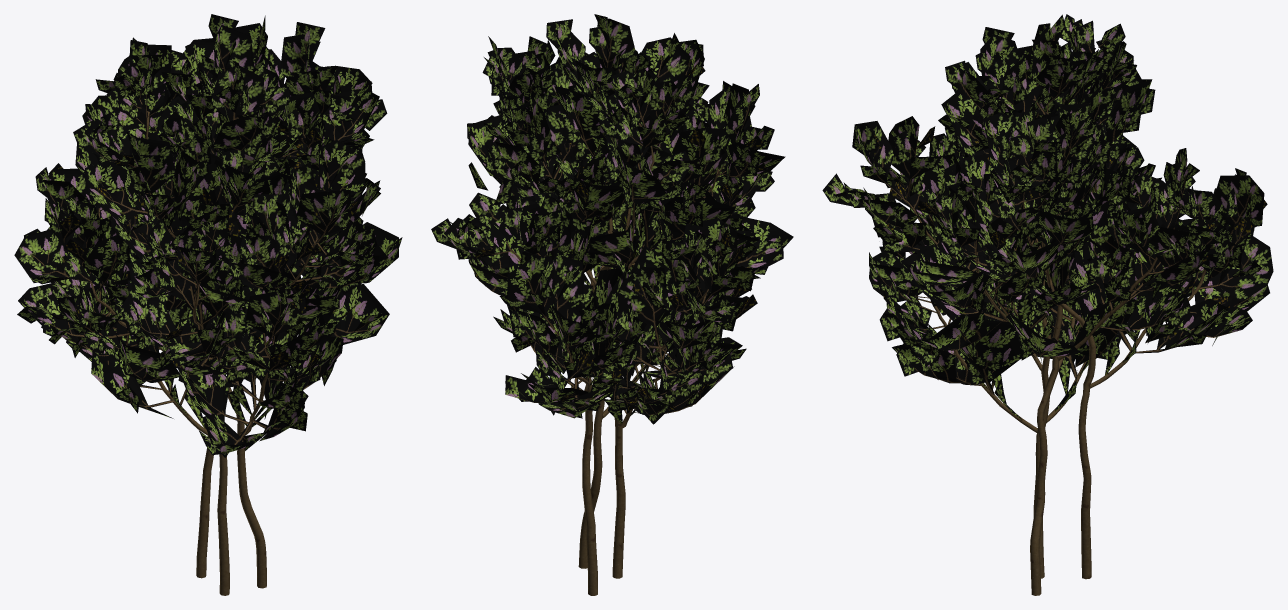
Rendered from lilac_tree_1k.gltf.
3 renders of one model, left to right at view 1: azimuth 30°, elevation 25°; view 2: azimuth 150°, elevation 25°; view 3: azimuth 270°, elevation 25°, orthographic.
Visible parts, largest first — view 1: Lilac_single_tree_2__LOD0, Lilac_single_tree_1__LOD0, Lilac_single_tree_3__LOD0; view 2: Lilac_single_tree_2__LOD0, Lilac_single_tree_1__LOD0, Lilac_single_tree_3__LOD0; view 3: Lilac_single_tree_1__LOD0, Lilac_single_tree_2__LOD0, Lilac_single_tree_3__LOD0.
Part boxes in pixels (x1,y1,x2,y2): Lilac_single_tree_2__LOD0: [35, 22, 387, 578]; Lilac_single_tree_1__LOD0: [14, 14, 387, 588]; Lilac_single_tree_3__LOD0: [17, 61, 402, 595]; Lilac_single_tree_2__LOD0: [467, 36, 785, 595]; Lilac_single_tree_1__LOD0: [431, 14, 757, 568]; Lilac_single_tree_3__LOD0: [490, 33, 793, 578]; Lilac_single_tree_1__LOD0: [865, 14, 1230, 595]; Lilac_single_tree_2__LOD0: [822, 14, 1273, 579]; Lilac_single_tree_3__LOD0: [899, 53, 1198, 578].
Size of what is drawn, in the model's own units: 3.99 by 7.18 by 5.23.
Materials: 2 (2 with a texture image).
